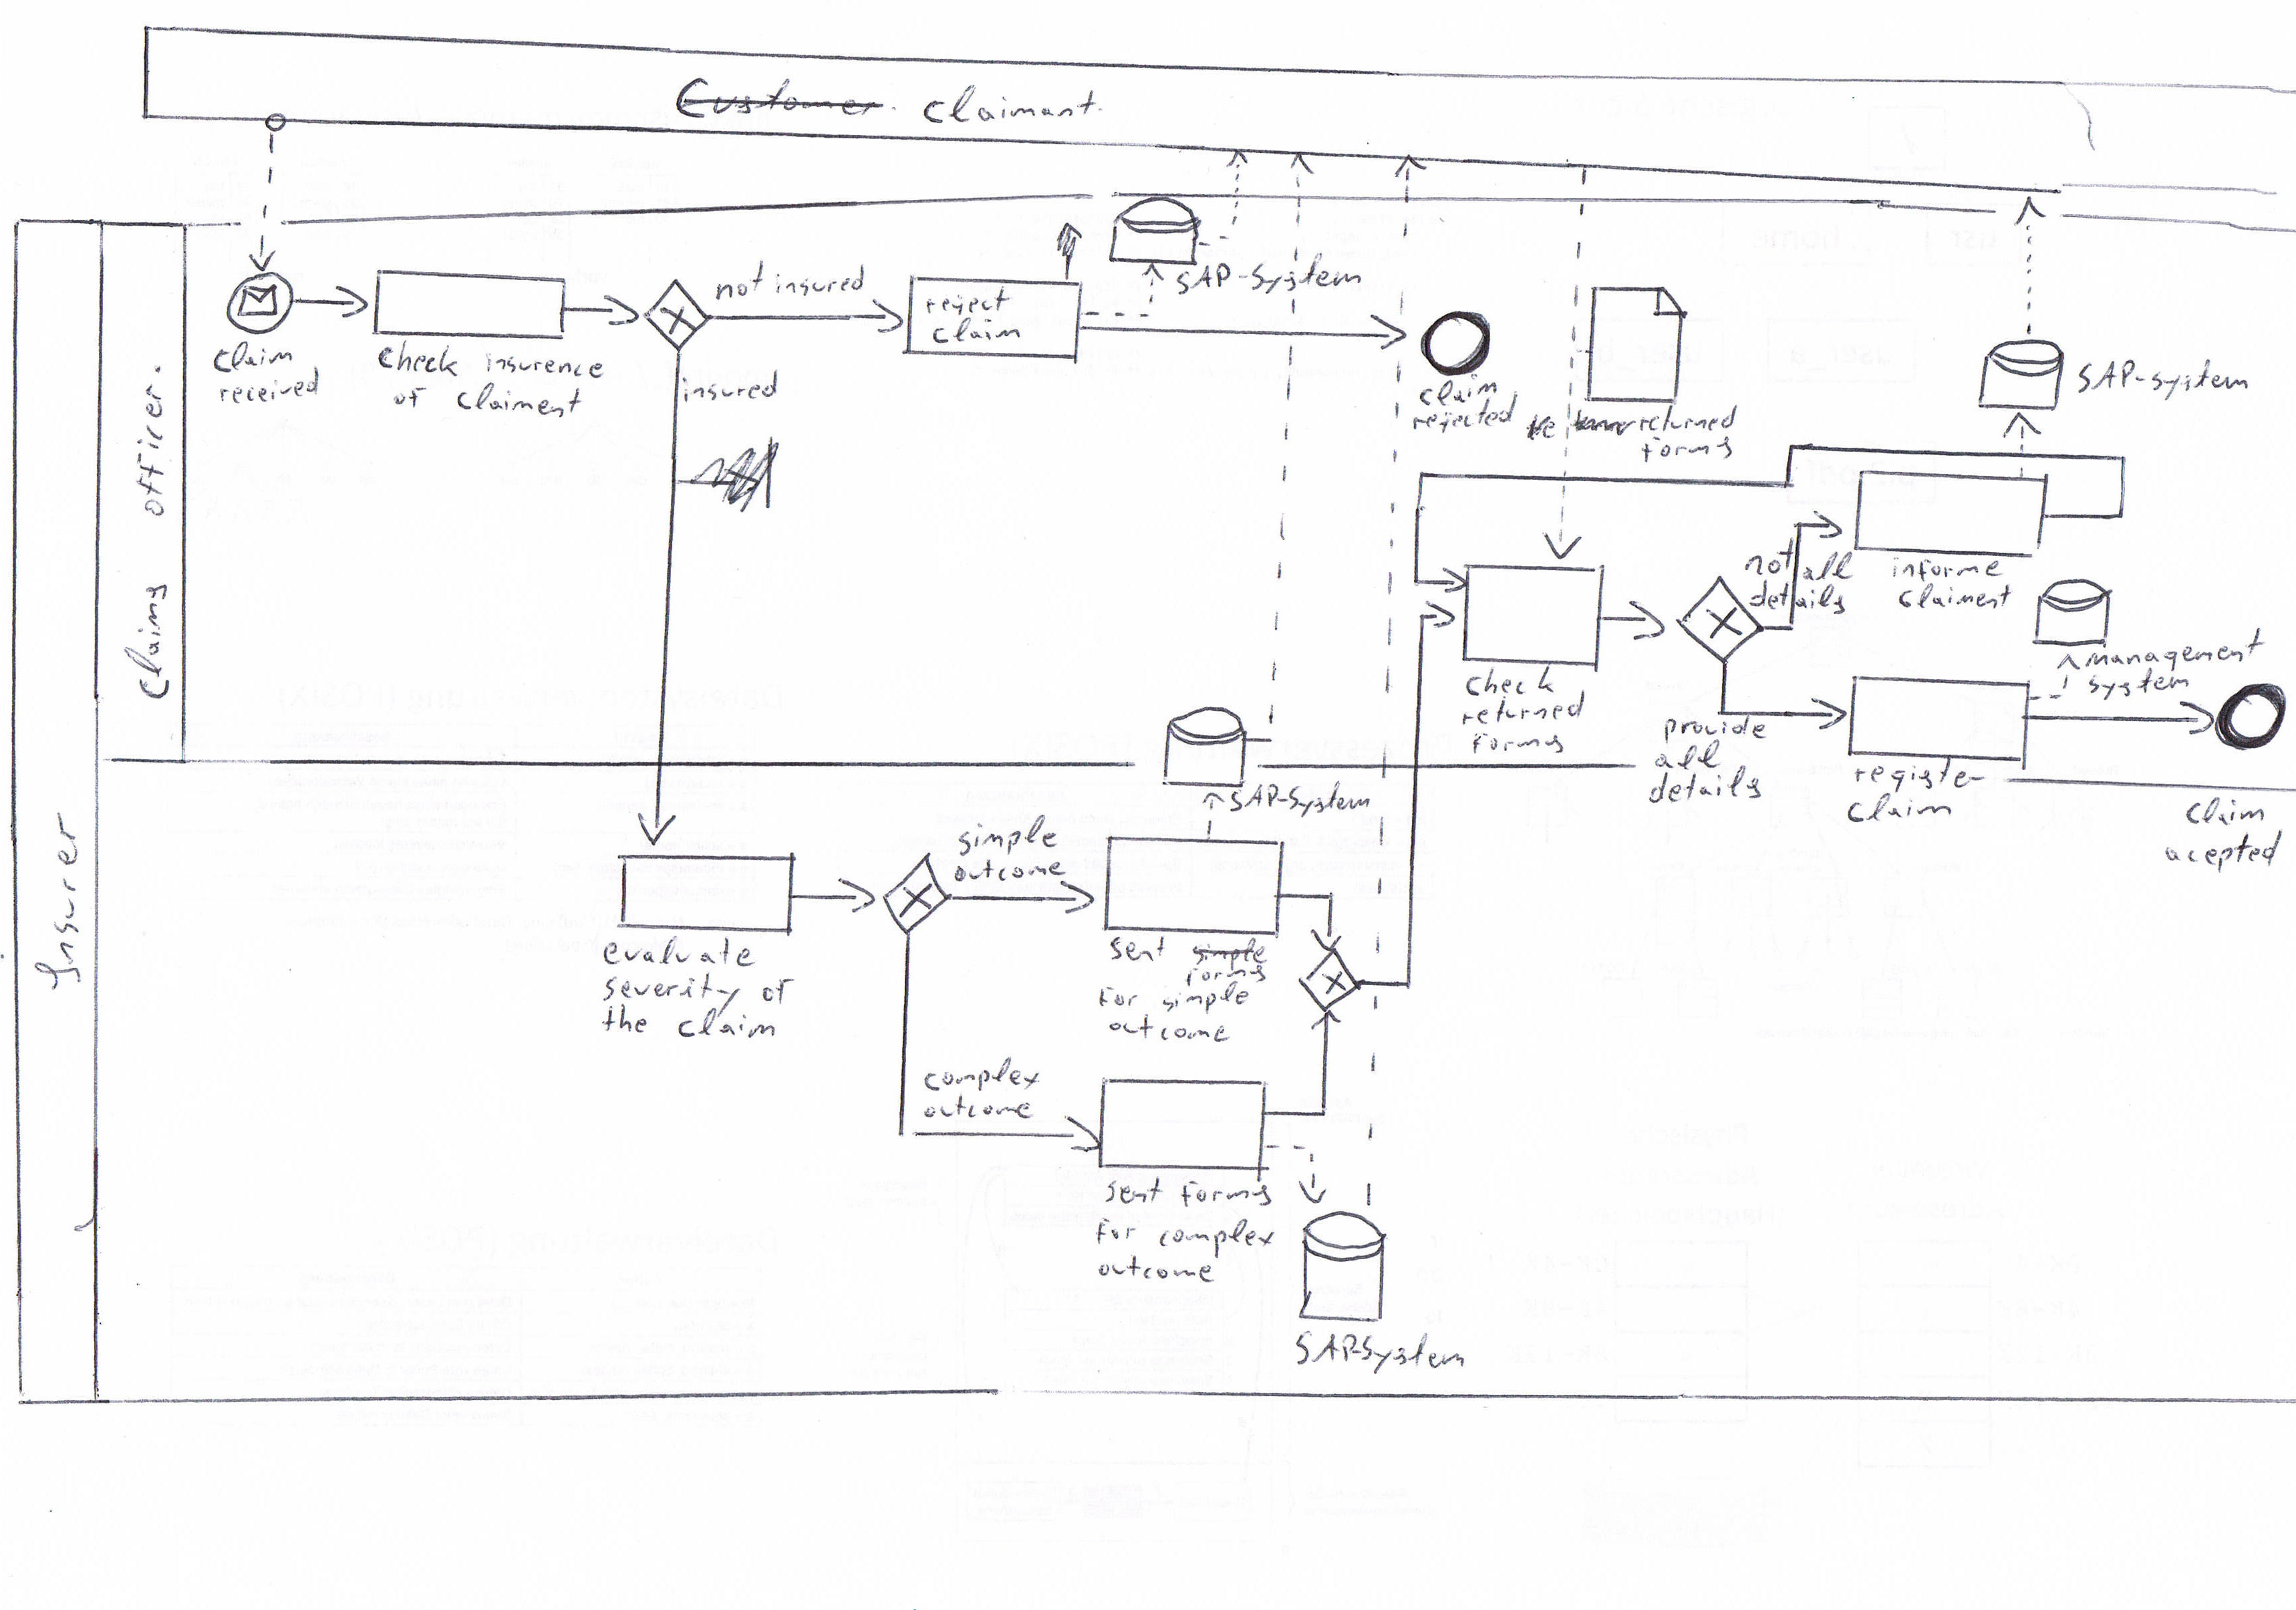Check: (373, 344, 462, 379), (1466, 668, 1558, 698)
Claim: (2183, 797, 2268, 825)
Claiment: (454, 385, 588, 419)
For: (1092, 1218, 1139, 1244)
Insure: (31, 813, 82, 987)
SAP-System: (1174, 256, 1368, 300), (1291, 1333, 1467, 1378), (2074, 358, 2247, 398), (1221, 783, 1373, 815)
acepted: (2163, 834, 2282, 867)
all: (1656, 745, 1722, 771), (1795, 553, 1856, 581)
claim: (673, 1008, 776, 1043), (1846, 794, 1958, 825), (1417, 375, 1497, 408), (211, 340, 291, 372), (932, 321, 1021, 347)
claiment: (921, 78, 1104, 126), (1898, 583, 2017, 612)
claims: (122, 576, 171, 701)
complex: (921, 1059, 1040, 1095), (1155, 1219, 1277, 1251)
details: (1649, 771, 1762, 804), (1752, 584, 1848, 614)
evaluate: (598, 938, 757, 973)
for: (1096, 986, 1139, 1008)
forms: (1178, 1179, 1275, 1209), (1469, 733, 1565, 755), (1638, 438, 1734, 460), (1185, 961, 1268, 984)
informe: (1886, 556, 2006, 583)
insured: (673, 372, 782, 408), (766, 265, 862, 297)
insurence: (476, 349, 605, 384)
management: (2081, 642, 2263, 673)
not: (717, 272, 766, 307), (1741, 549, 1792, 576)
of: (757, 975, 794, 1008), (391, 384, 422, 408)
officer: (131, 387, 169, 518)
outcome: (1108, 1013, 1228, 1045), (1096, 1256, 1214, 1284), (949, 856, 1066, 884), (921, 1097, 1031, 1123)
provide: (1663, 717, 1767, 741)
received: (215, 368, 321, 405)
register: (1849, 762, 1980, 792)
reject: (925, 290, 1008, 316)
rejected: (1410, 405, 1518, 431)
returned: (1460, 694, 1584, 727), (1633, 406, 1739, 434)
sent: (1099, 1177, 1162, 1204), (1108, 937, 1167, 963)
severity: (598, 975, 741, 1003)
simple: (956, 816, 1059, 858), (1162, 984, 1251, 1012)
system: (2083, 666, 2190, 703)
the: (595, 1003, 649, 1034)
